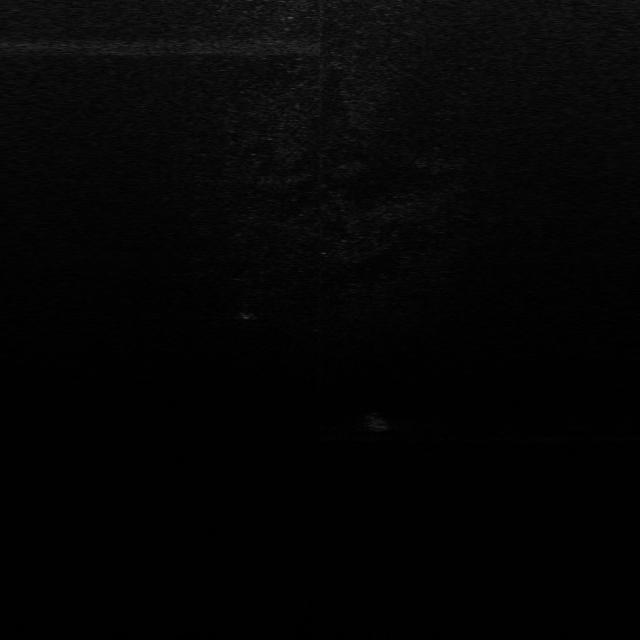ball: (360, 408, 390, 432)
circle cage: (237, 304, 258, 320)
